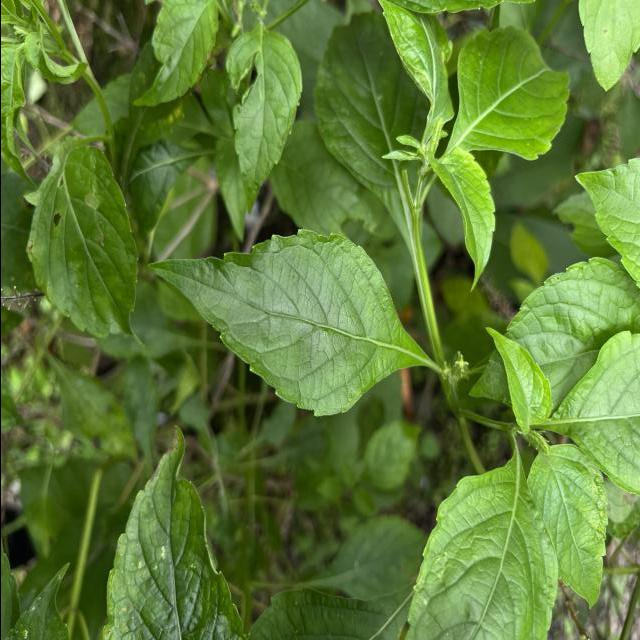Ocimum gratissimum: (143, 227, 423, 421), (99, 416, 252, 640), (402, 455, 562, 640), (436, 22, 576, 163), (514, 438, 610, 611), (424, 148, 500, 296)
